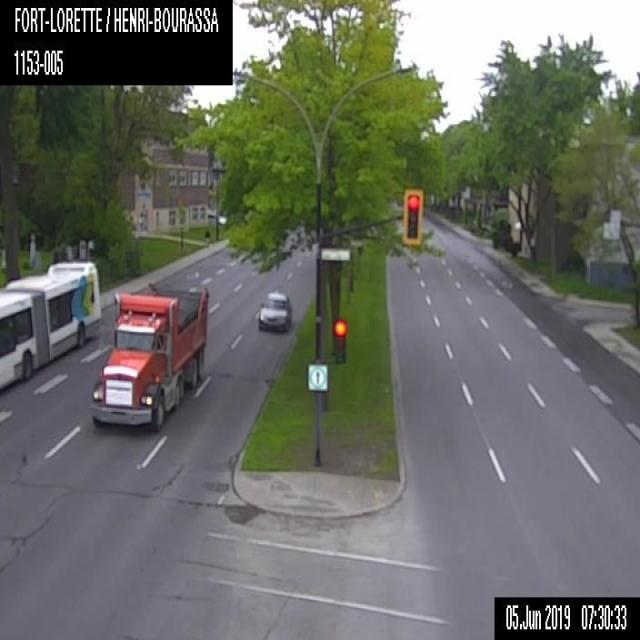bus: (0, 256, 102, 396)
pedestrian: (204, 228, 210, 246)
vehicle: (87, 279, 209, 432), (256, 289, 293, 332), (206, 211, 223, 224)
